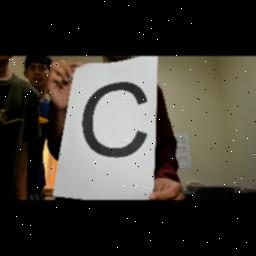c: (80, 77, 150, 159)
